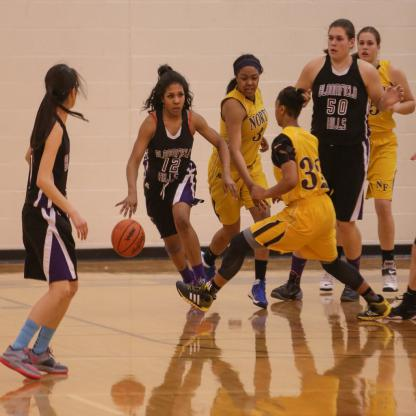Ball: (110, 217, 148, 257)
